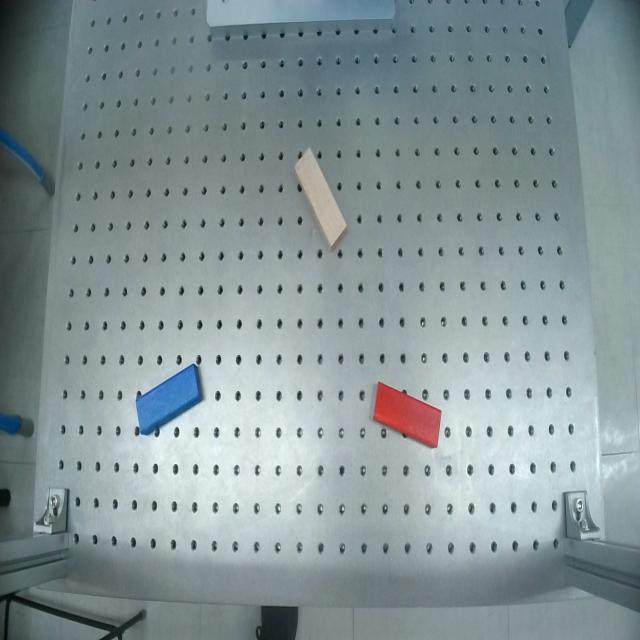blue: (124, 362, 214, 439)
red: (361, 381, 452, 451)
wood: (287, 146, 355, 253)
